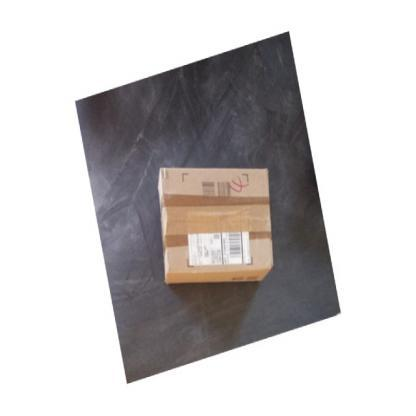package: (157, 167, 272, 283)
